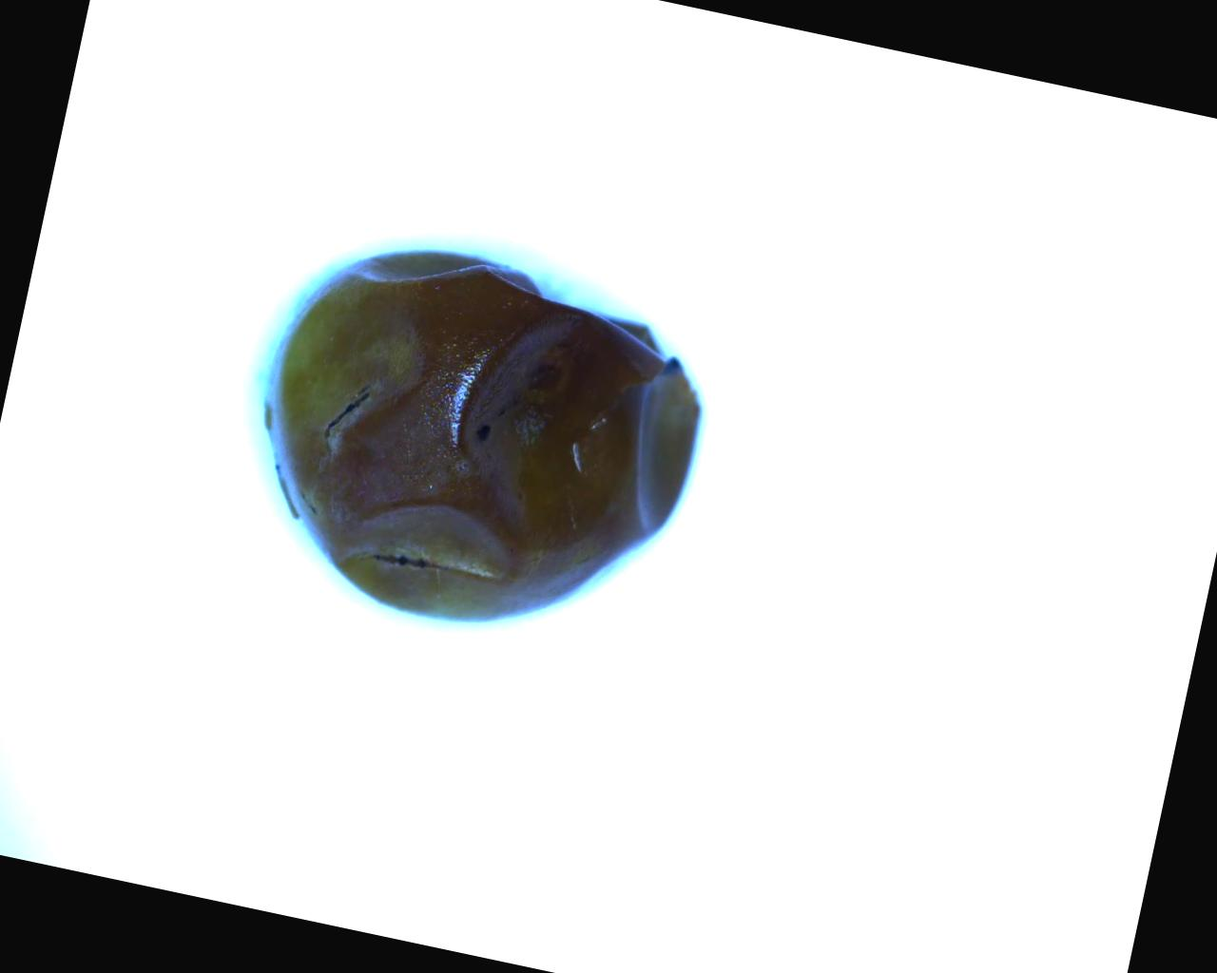Grape Rotten: (221, 214, 727, 666)
